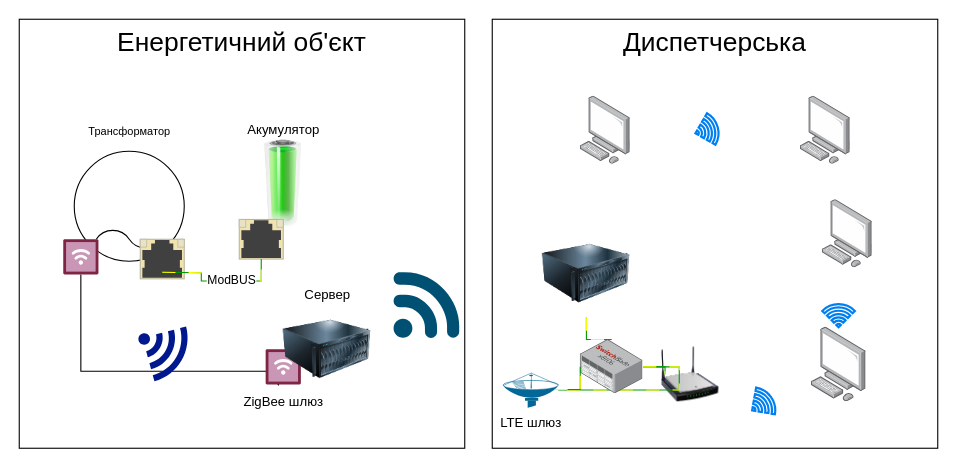
Image size: 957x468. Some labels were removed from this diagram. Here are the shapes that lost their labels. From the top down, the centre of each, then its label:
point (80, 256): ZigBee інтерфейс
point (586, 273): Сервер для СППР та ЕС
point (426, 305): LTE
point (690, 373): WiFi роутер
